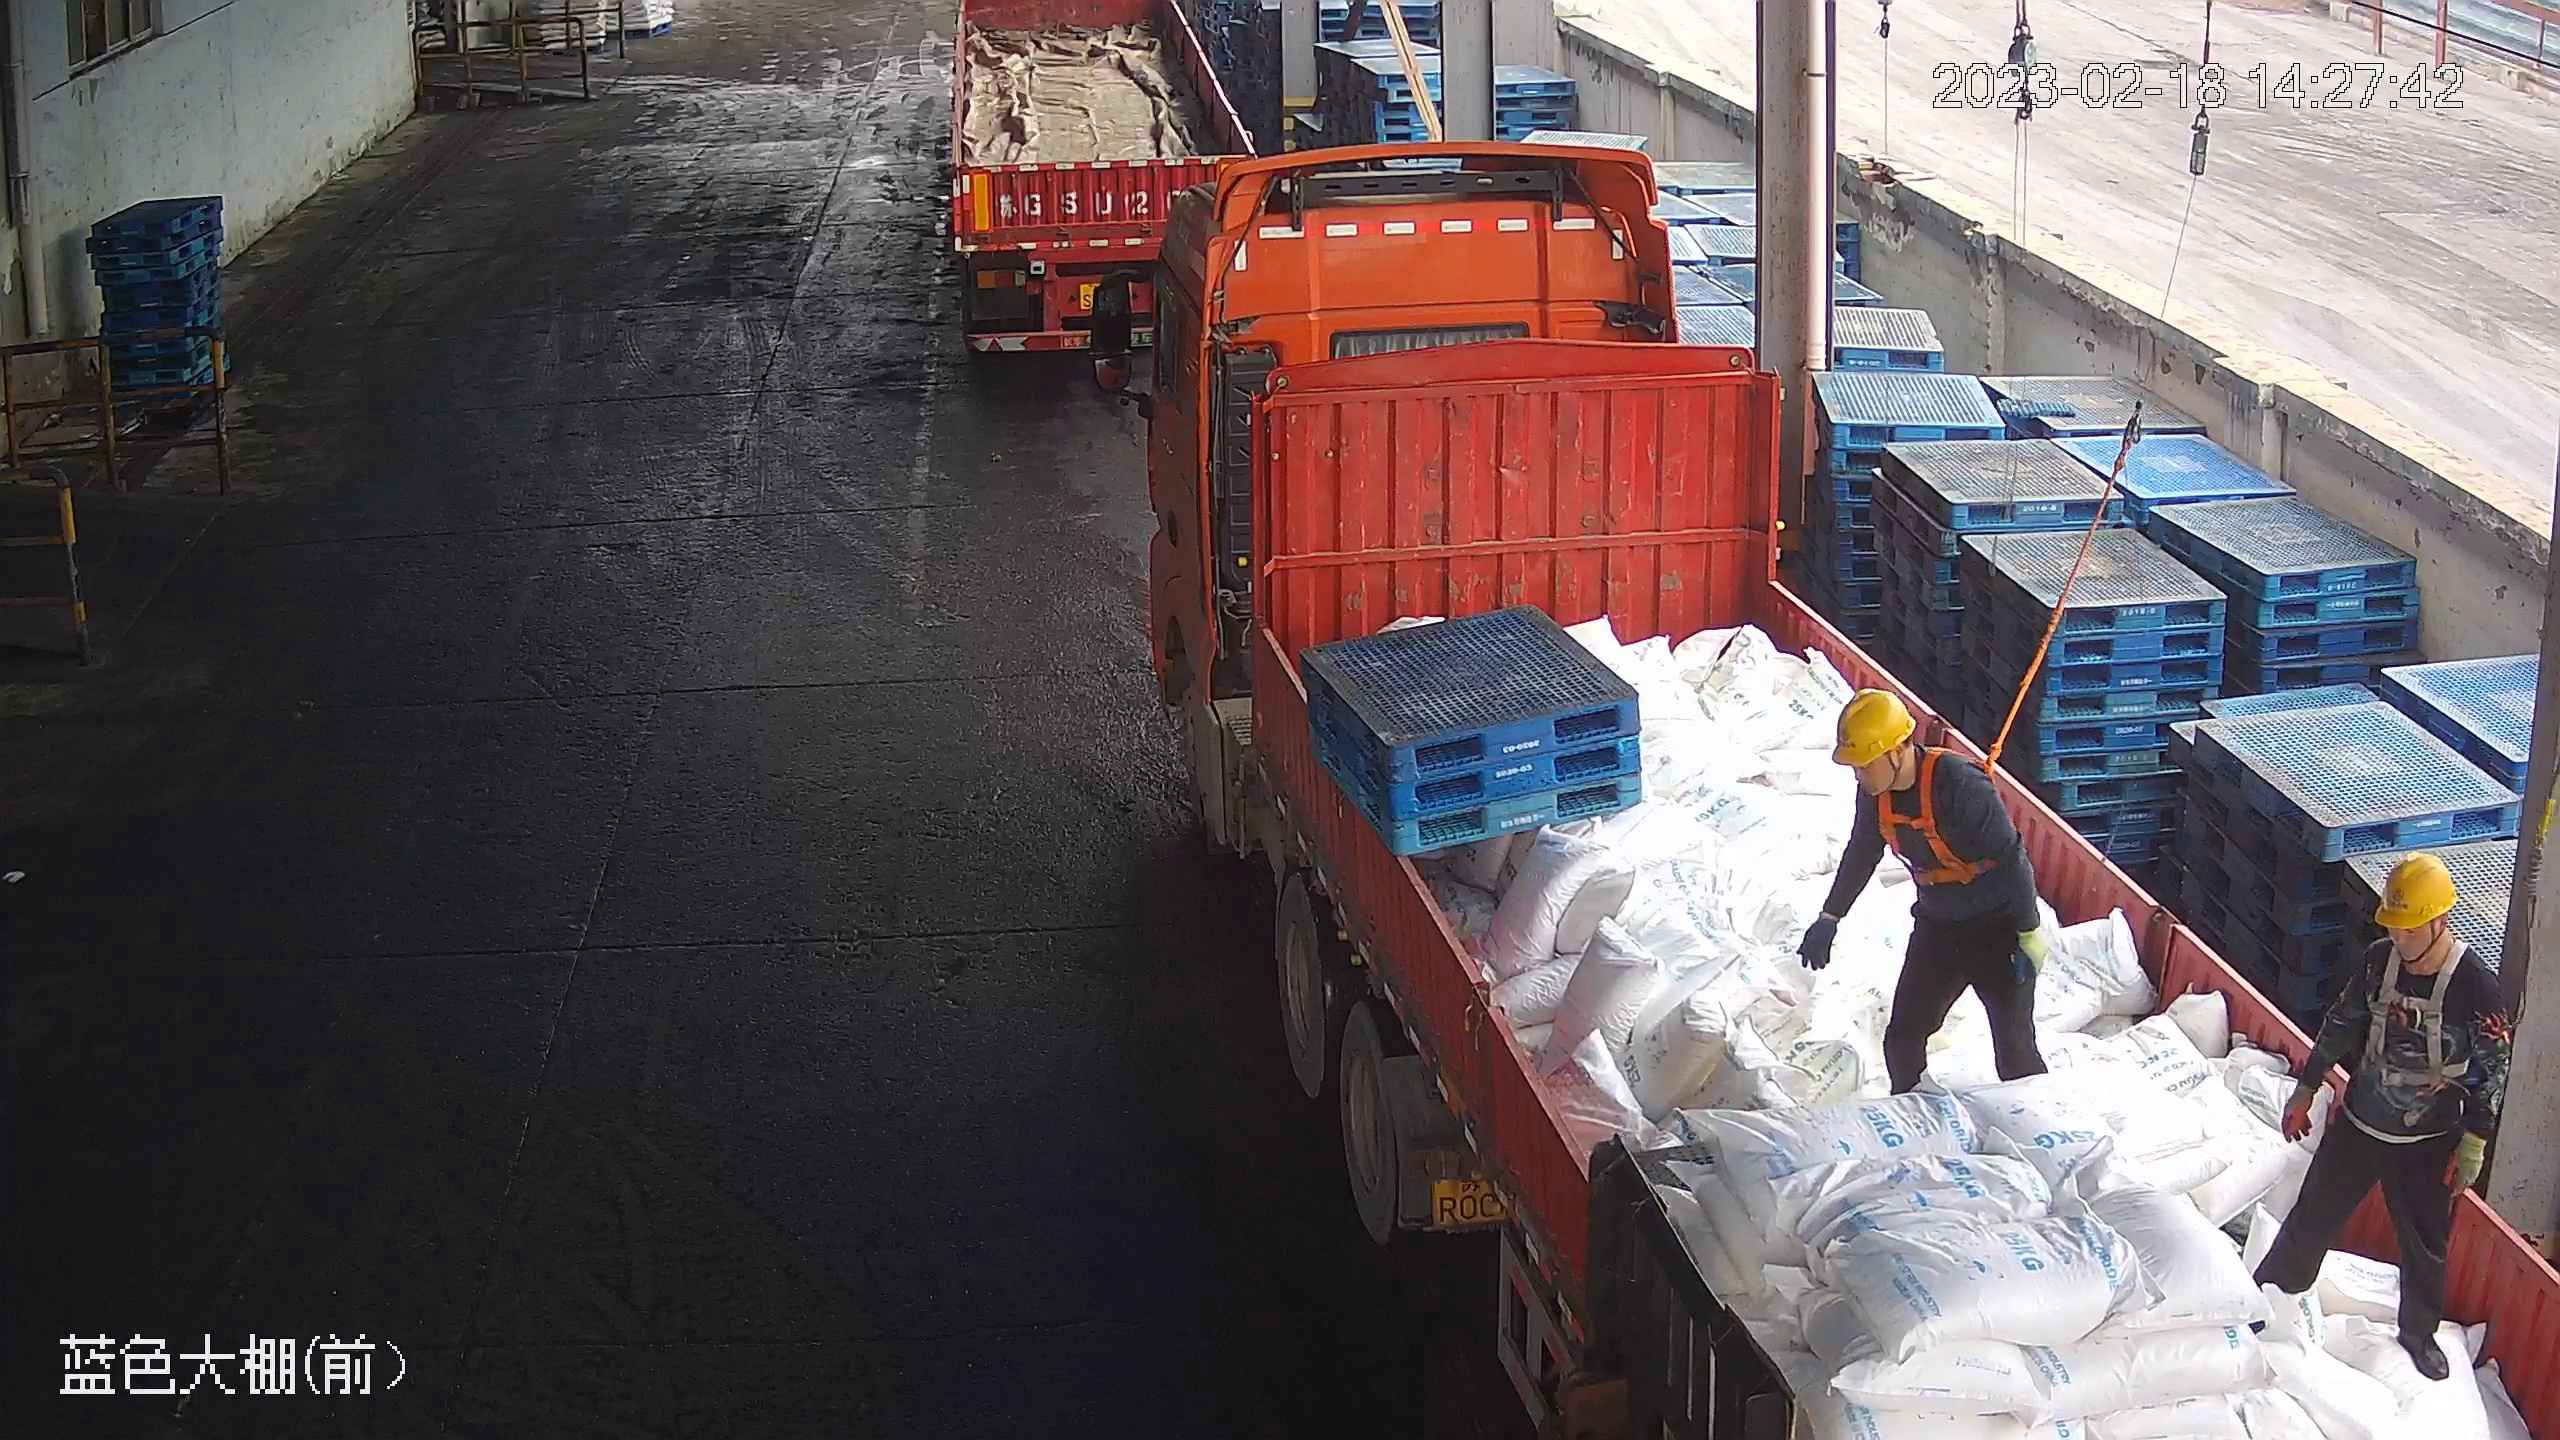belt: (1877, 733, 1998, 888), (2357, 947, 2471, 1085)
head: (2332, 844, 2500, 1022), (1830, 689, 1996, 837)
helmet: (2367, 842, 2464, 932), (1830, 687, 1917, 766)
people: (2250, 847, 2509, 1382), (1801, 687, 2049, 1095)
truck: (1102, 117, 2560, 1436), (925, 4, 1267, 386)
